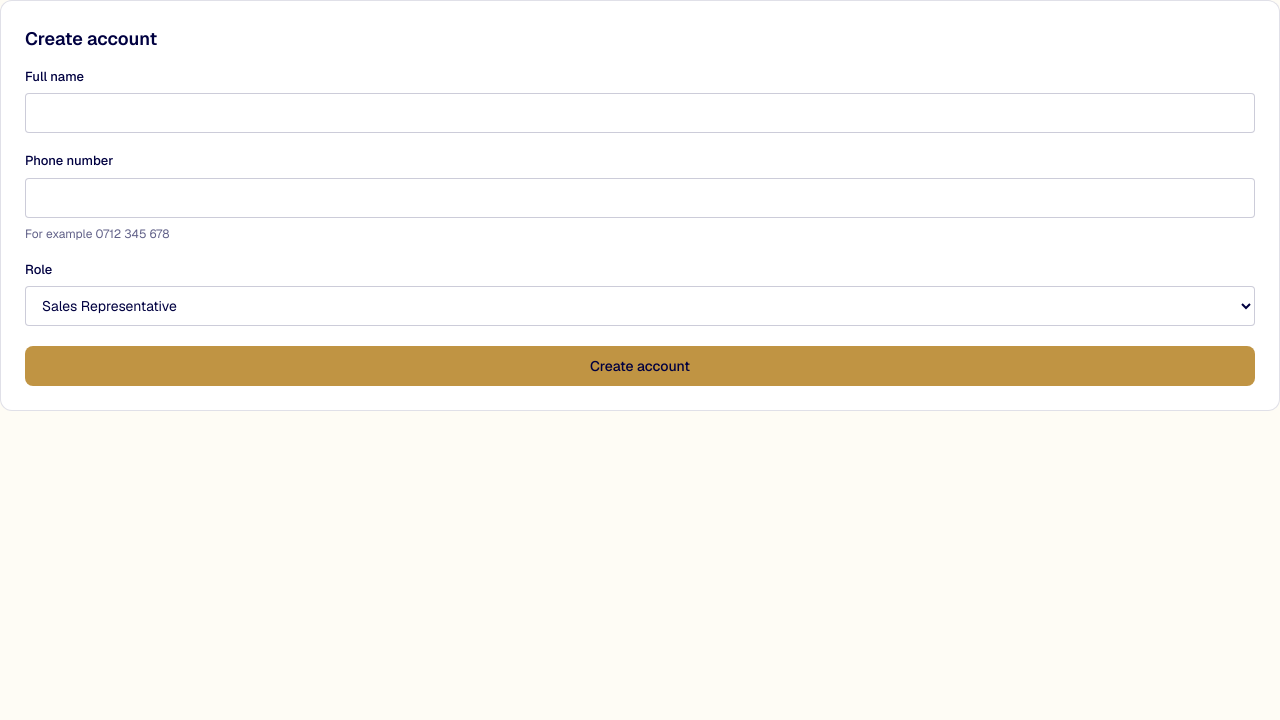
Scenario: account recovery, activated twice in quick succession › issues at most one reset, and never a second password
Type "Asha Mushi" into the field labelled "Full name".
click(640, 113); type("Asha Mushi")  # box [25,93,1255,133]
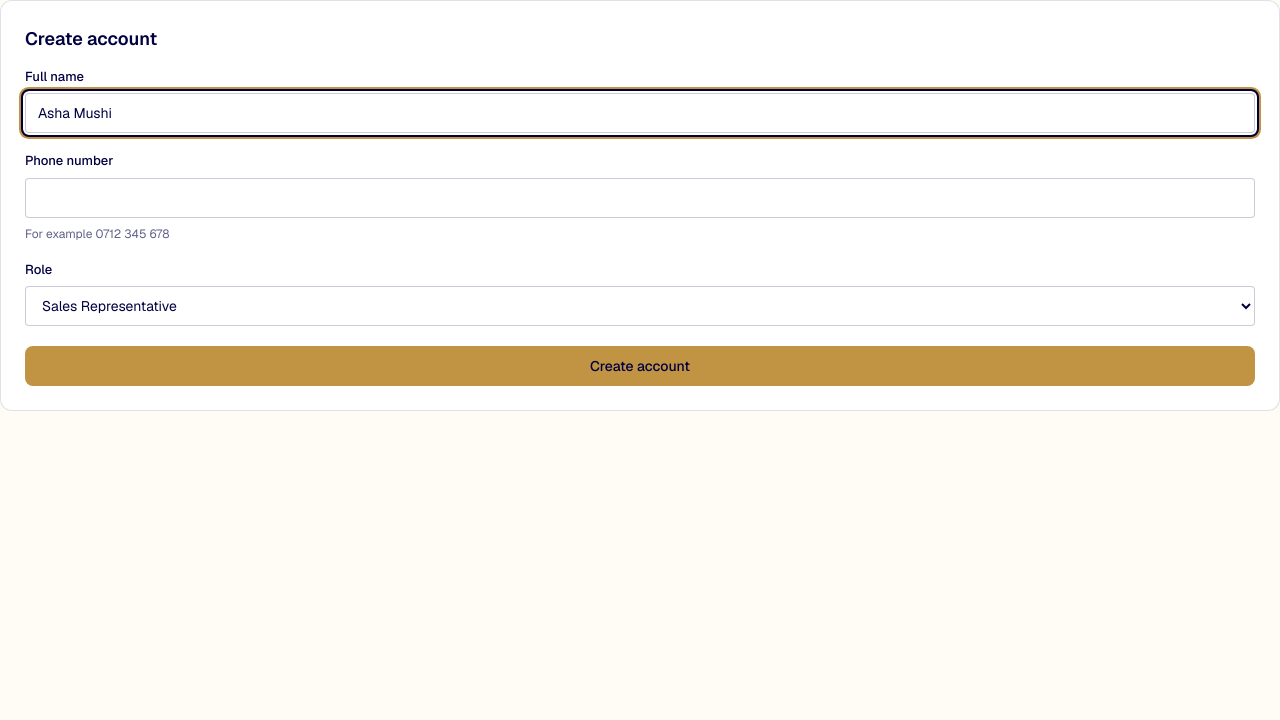
Type "0712345678" into the field labelled "Phone number".
click(640, 198); type("0712345678")  # box [25,178,1255,218]
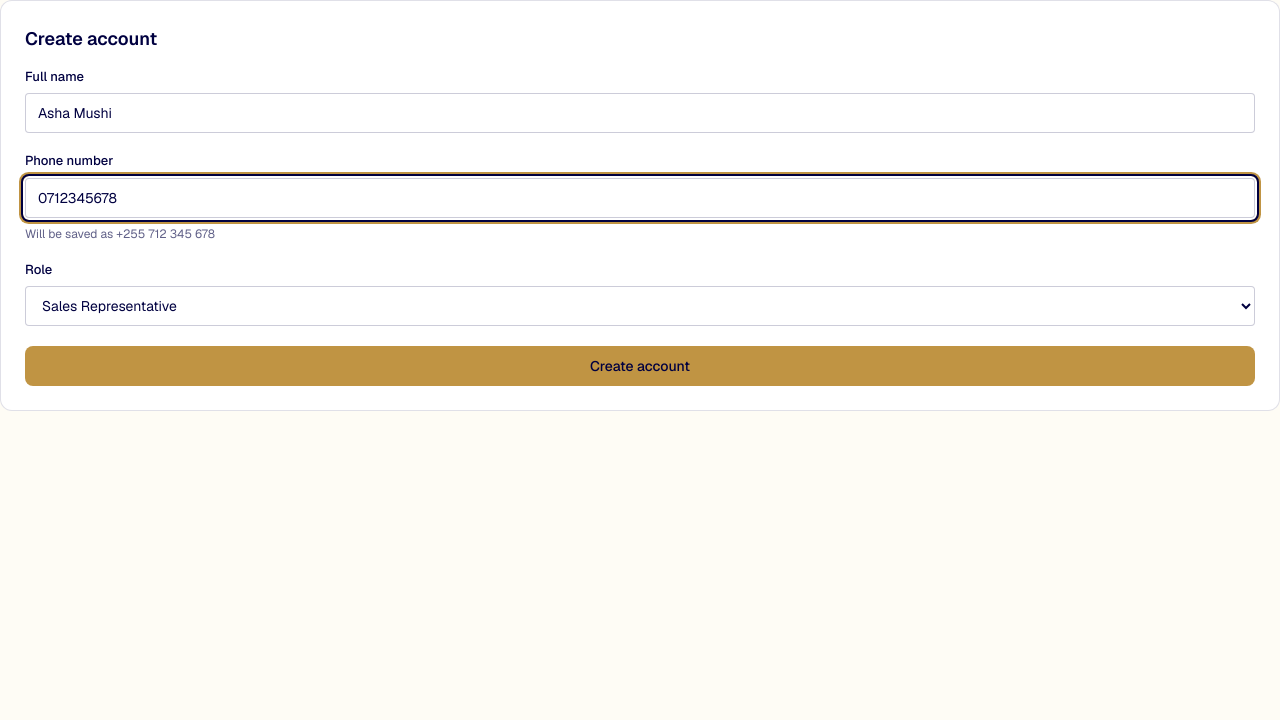
Click the button "Create account".
click(640, 366)  # box [25,346,1255,386]
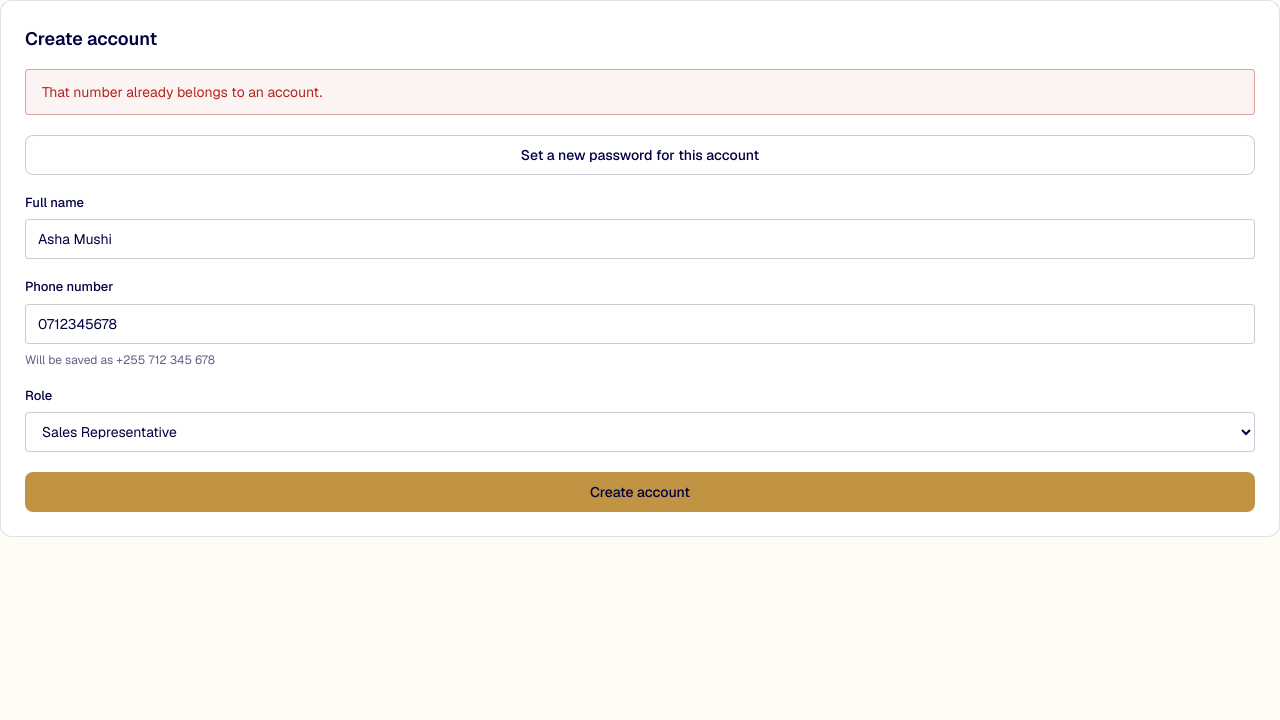
Click the button "Set a new password for this account".
click(640, 155)  # box [25,135,1255,175]
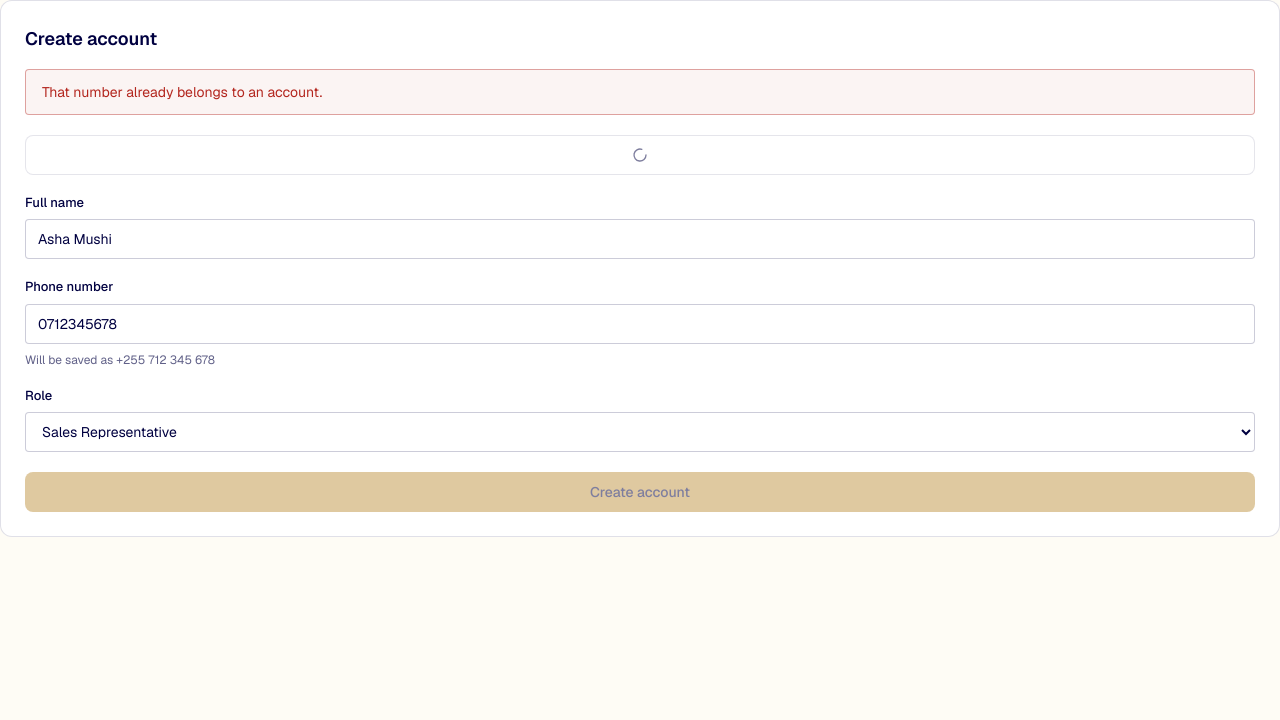
Now the button named "set a new password for this account" is disabled
Click the button named "set a new password for this account".
click(640, 155)  # box [25,135,1255,175]
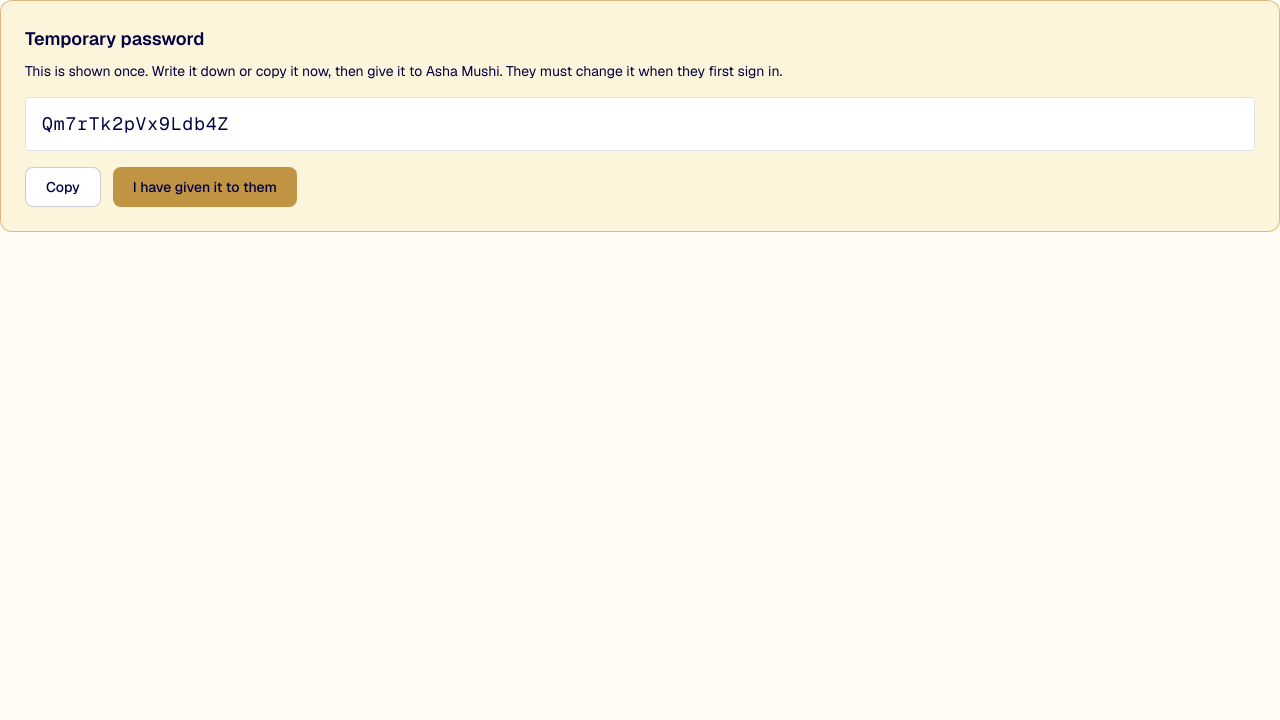
Now the text "Qm7rTk2pVx9Ldb4Z" is shown, box [25,97,1255,151]
